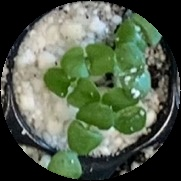Basil: (70, 99, 113, 157), (42, 66, 100, 107), (110, 45, 160, 91), (57, 39, 116, 76), (106, 86, 145, 136), (118, 10, 162, 52)
